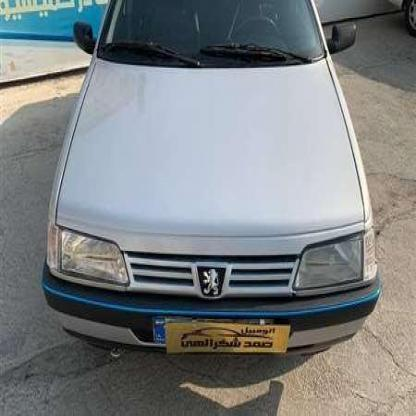Car: (44, 0, 378, 359)
